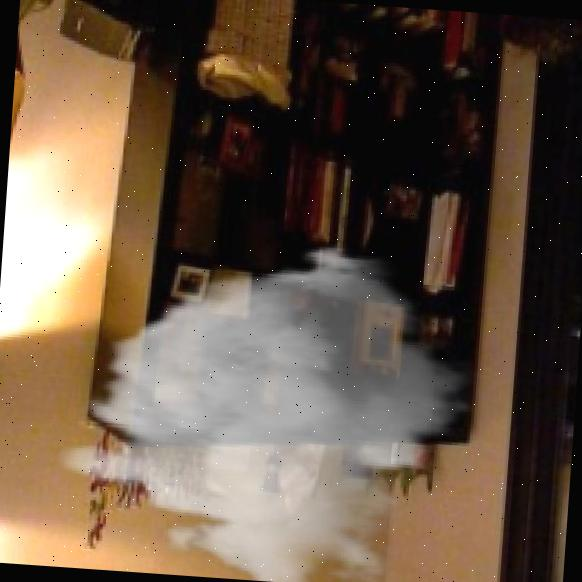smoke: (97, 292, 441, 555)
